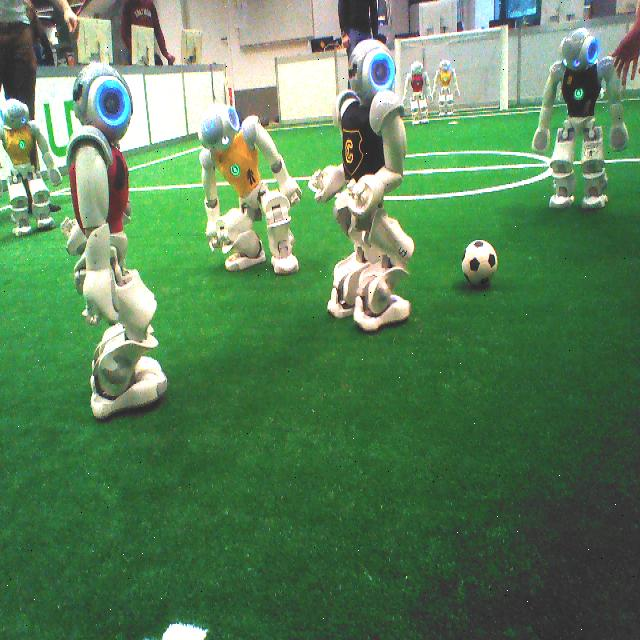ball: (457, 230, 498, 302)
goalpost: (500, 25, 510, 111), (395, 39, 402, 101)
